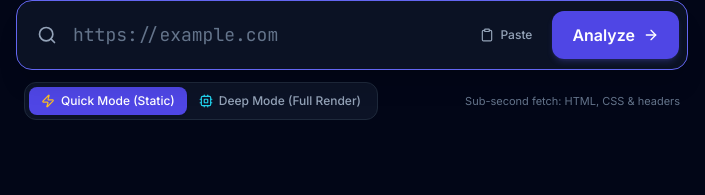
Test: UrlInput Component › displays error message if submitted with empty URL
Click the button "Analyze".
click(616, 35)  # box top-left (552, 11), bottom-right (679, 59)
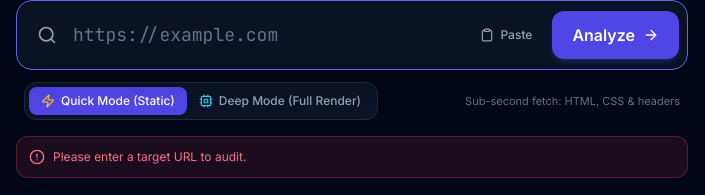
Now the text "Please enter a target URL to audit." is shown, box top-left (53, 149), bottom-right (246, 165)
